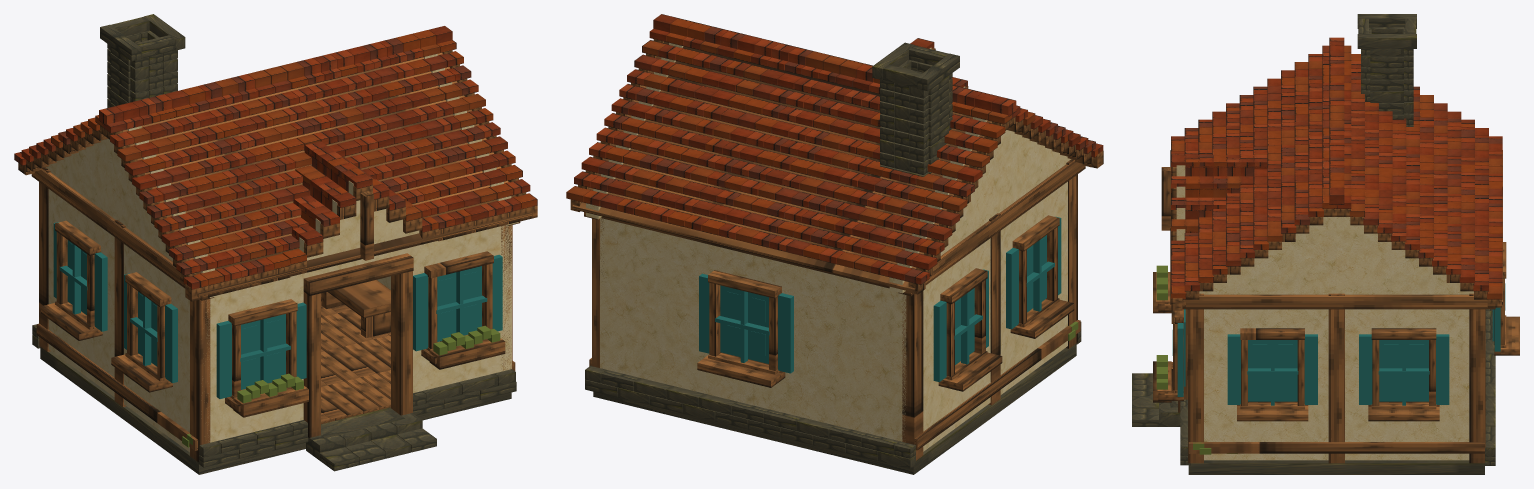
The model's file is SM_HP_Cottage_LOD1.fbx.
3 renders of one model, left to right at view 1: azimuth 30°, elevation 25°; view 2: azimuth 150°, elevation 25°; view 3: azimuth 270°, elevation 25°, orthographic. The views are drawn at different scales.
Parts seen in each view (by area): view 1: SM_HP_Cottage_LOD1; view 2: SM_HP_Cottage_LOD1; view 3: SM_HP_Cottage_LOD1.
Boxes of the visible parts, left/top/right/bottom form: SM_HP_Cottage_LOD1: left=14, top=14, right=537, bottom=474; SM_HP_Cottage_LOD1: left=566, top=14, right=1103, bottom=474; SM_HP_Cottage_LOD1: left=1132, top=14, right=1519, bottom=474.
Size of the model in its own units: 5.76 by 5.76 by 5.39.
8 materials, 4 textured.
